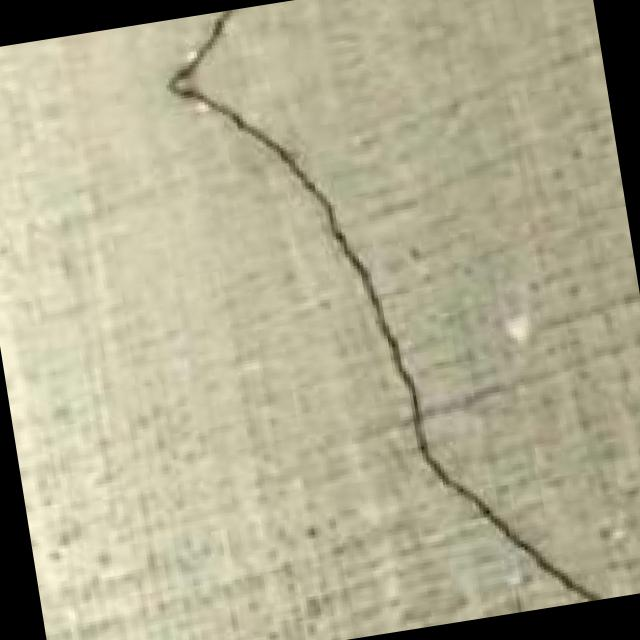crack: (134, 0, 638, 640)
